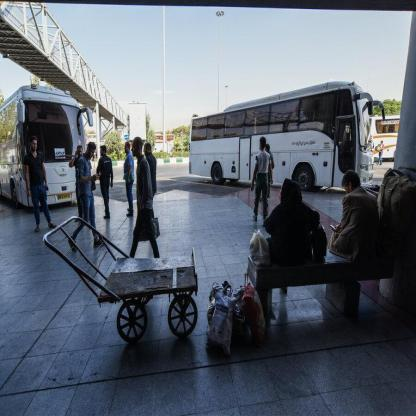Bus: (179, 82, 370, 210), (0, 77, 86, 221)
